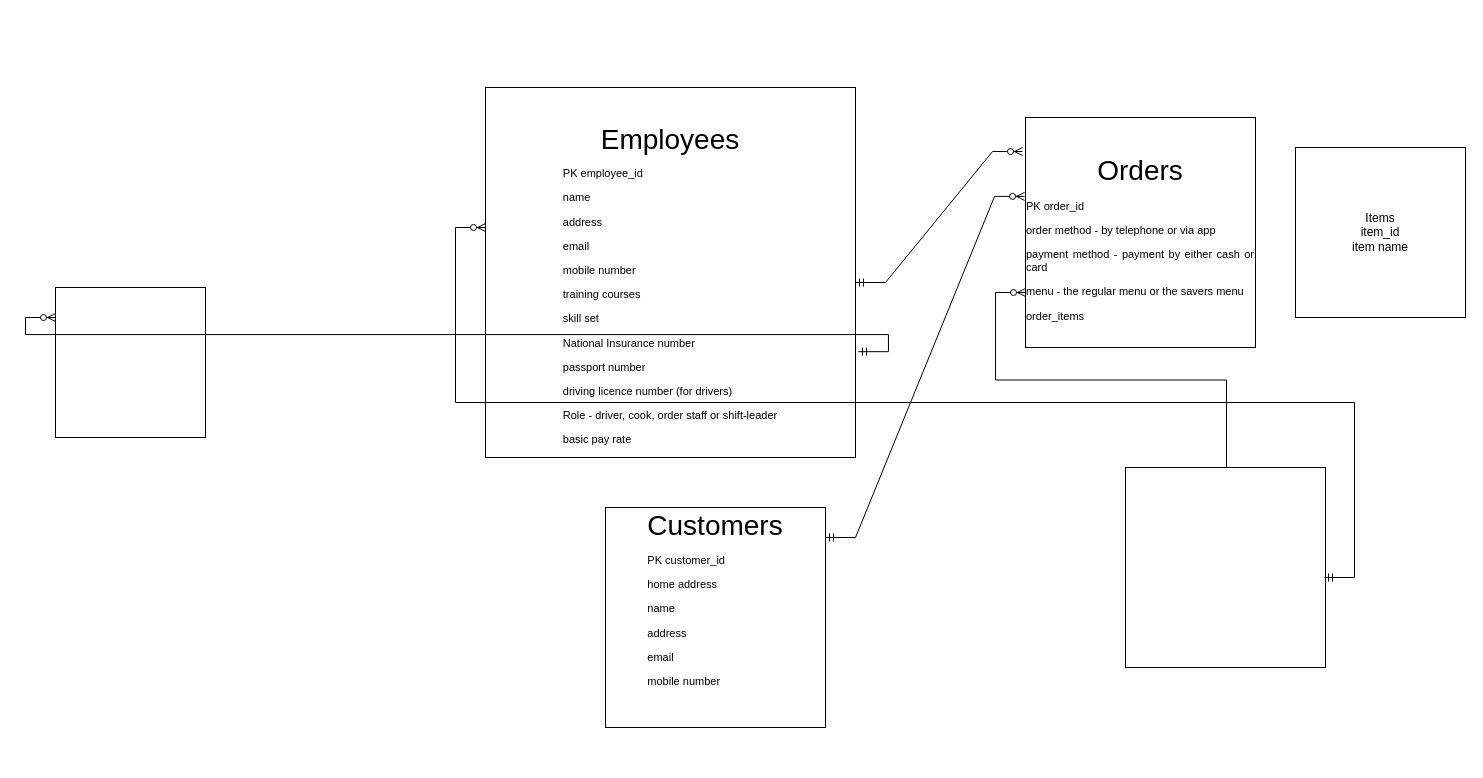
Some shapes in this 1483 by 778 pixel diagram are drawn without their labels. The box of each missing label's shape, as (x1, y1, x2, y2) in pixels:
Outlets PK outlet_id Outlet address: (1124, 466, 1326, 668)
Shifts shift_id shift date shift type - breakfast/dinner: (54, 286, 206, 438)
